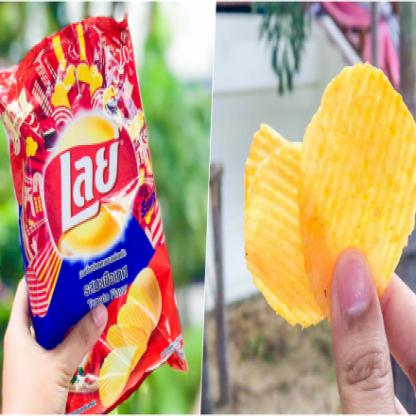potatochip: (0, 7, 191, 414)
